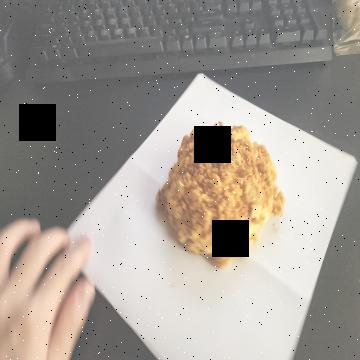soboru_bread: (155, 122, 285, 268)
